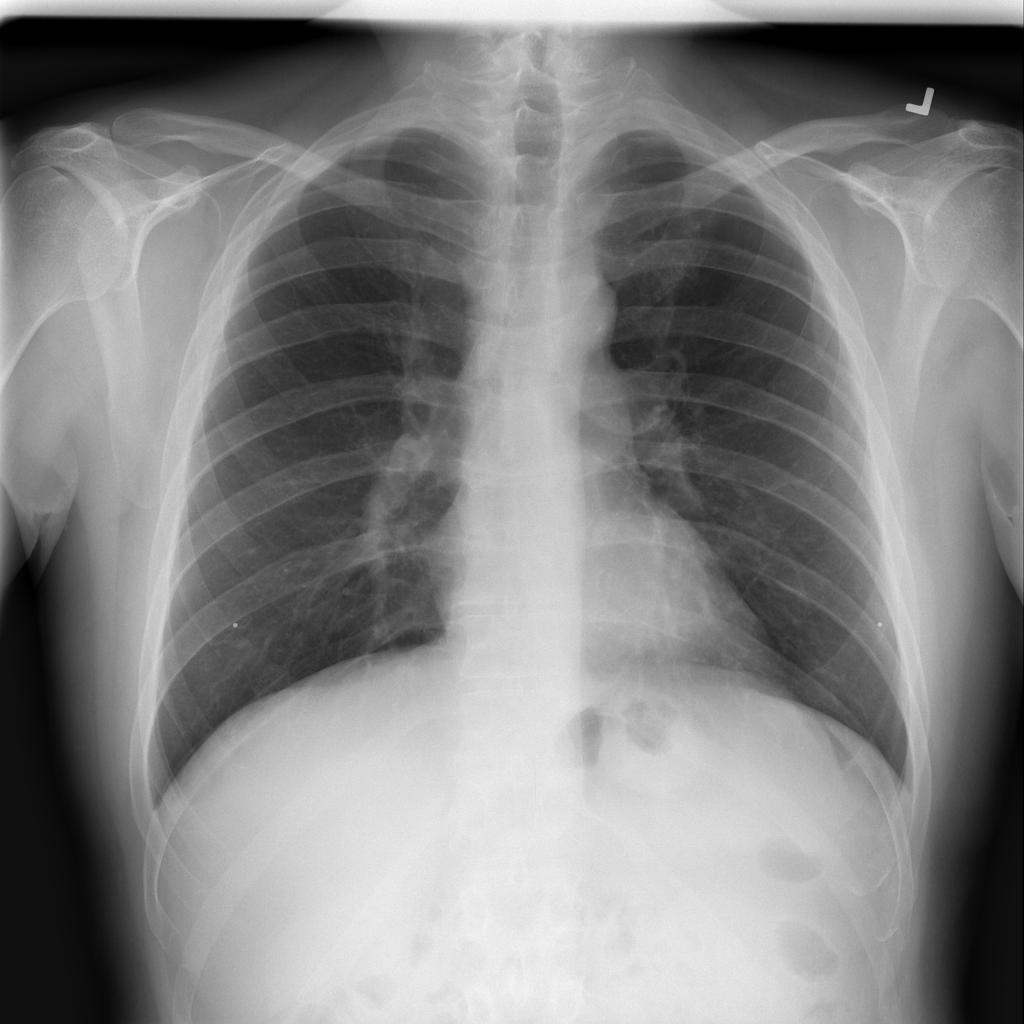nodule: (567, 515, 705, 664)
